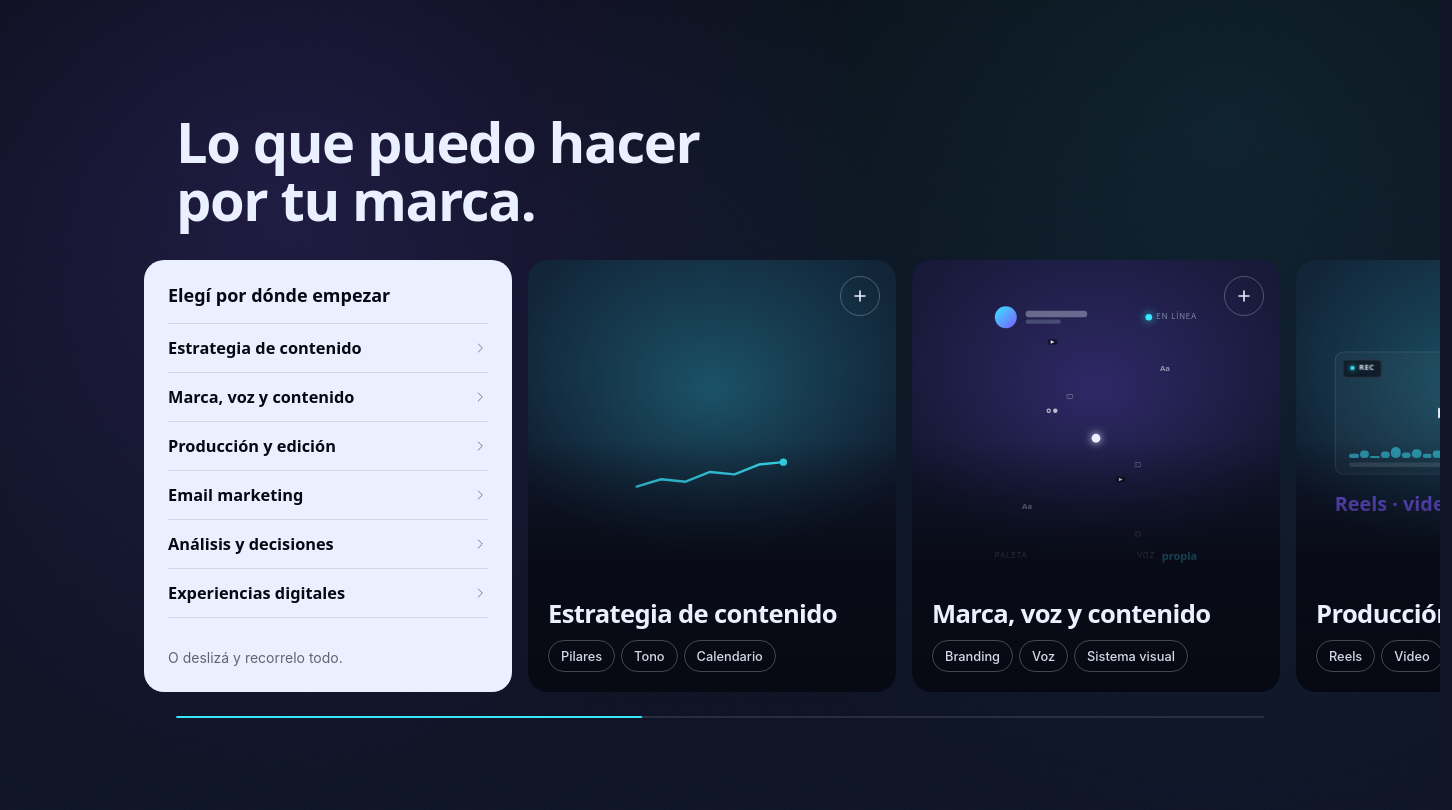
Test case: Soluciones — Qué resuelve › abre el panel con los tres renglones y lo anuncia
The width and height of the screenshot is (1452, 810).
Click the button named "Qué resuelve" at (712, 476), box [528,260,896,692]
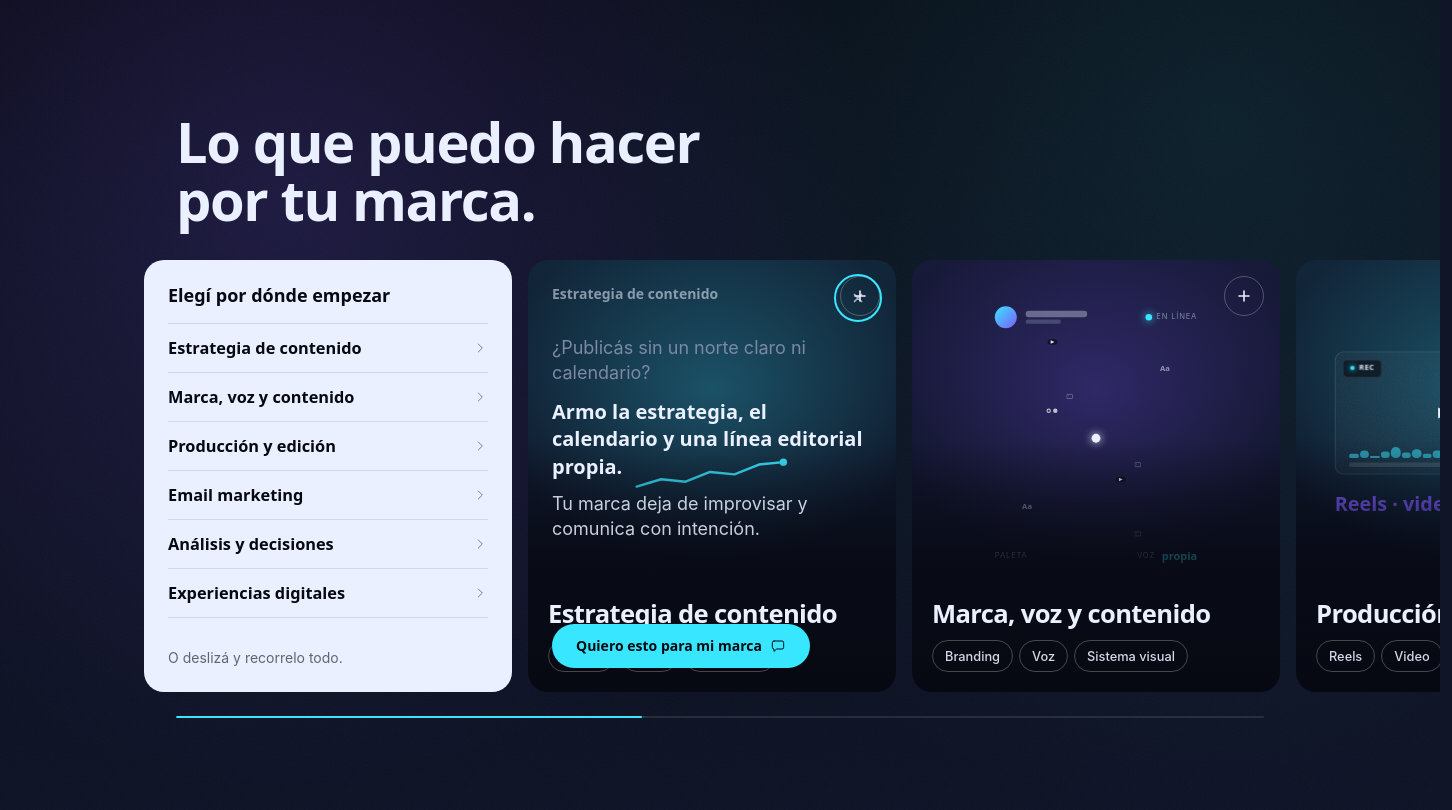
Check: the button named "Qué resuelve" is expanded, box [528,260,896,692]
Check: the text "¿Publicás sin un norte claro ni calendario?" is shown, box [552,338,806,383]
